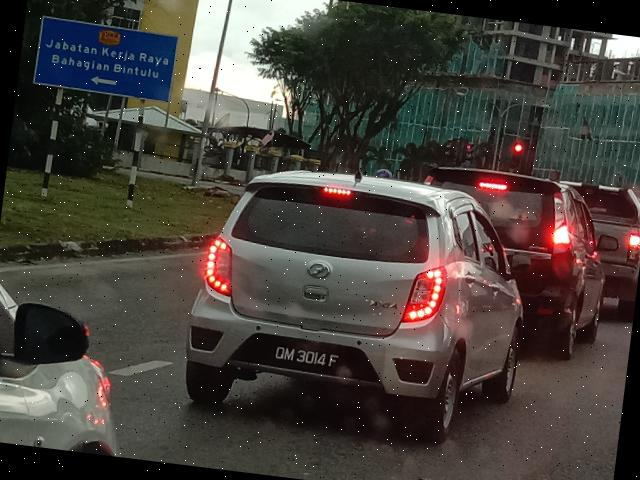License_Plate: (260, 337, 352, 375)
car: (177, 132, 554, 450)
